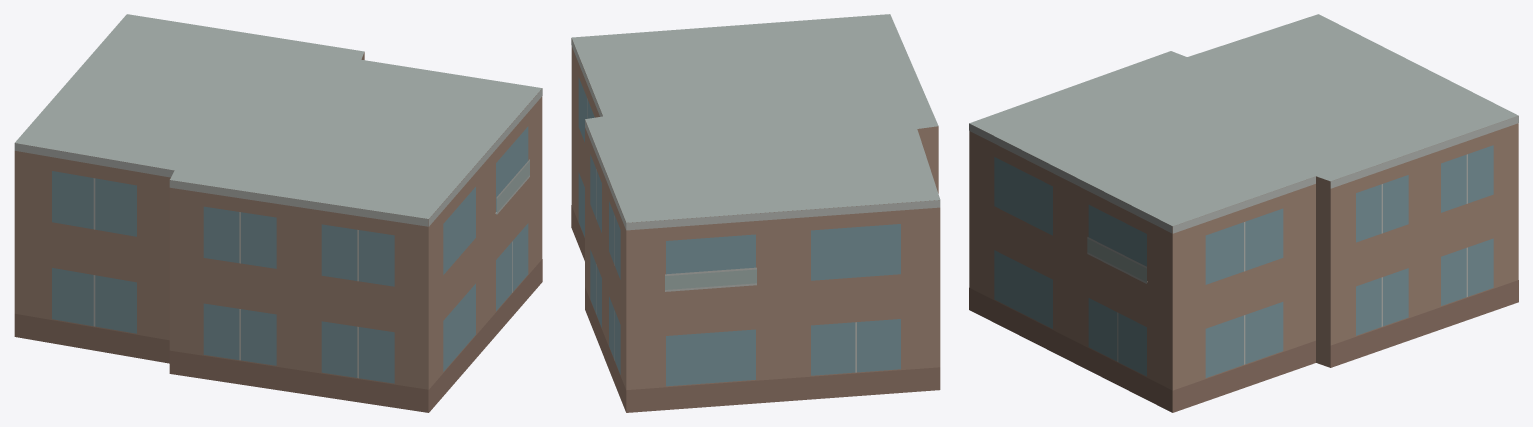
Rendered from survey-upis-32640981.glb.
3 views of the same model, side by side, from view 1: azimuth 30°, elevation 25°; view 2: azimuth 150°, elevation 25°; view 3: azimuth 270°, elevation 25° (orthographic). The views are drawn at different scales.
Visible parts, largest first — view 1: survey-upis-32640981.tmp; view 2: survey-upis-32640981.tmp; view 3: survey-upis-32640981.tmp.
Boxes of the visible parts, x1=… form: survey-upis-32640981.tmp: x1=14, y1=14, x2=542, y2=412; survey-upis-32640981.tmp: x1=571, y1=14, x2=940, y2=412; survey-upis-32640981.tmp: x1=969, y1=14, x2=1518, y2=412.
Size of the model in its own units: 14.9 by 6.1 by 16.3.
